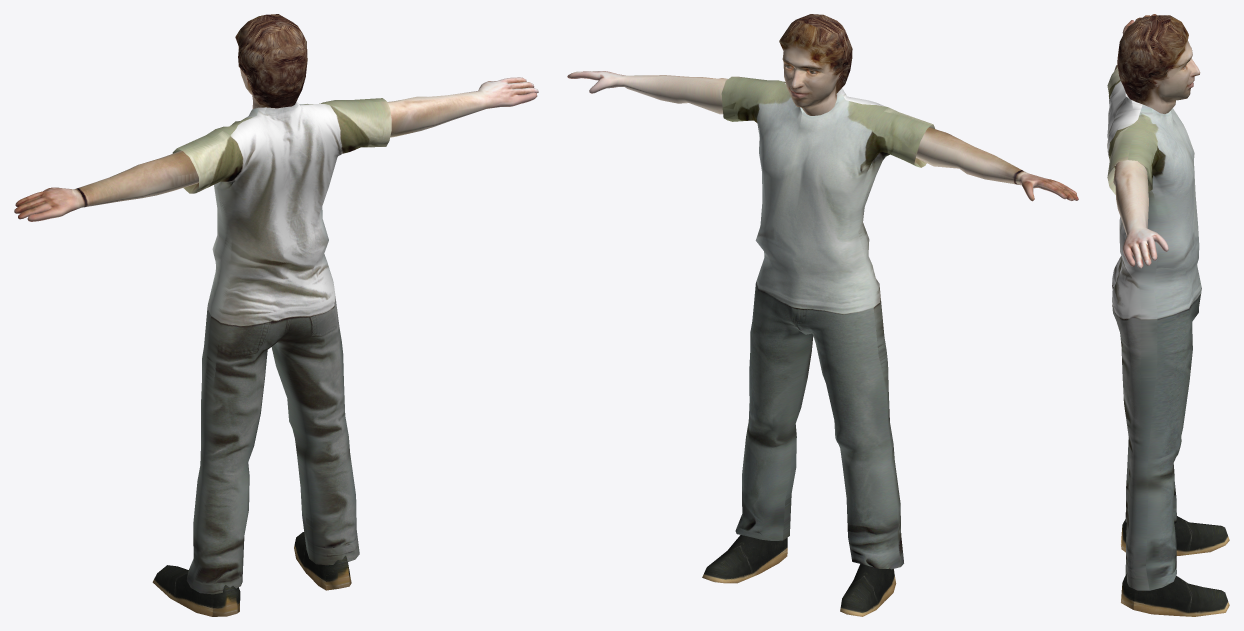
Rendered from CMan0002-Tp.obj.
3 views of the same model, side by side, from view 1: azimuth 30°, elevation 25°; view 2: azimuth 150°, elevation 25°; view 3: azimuth 270°, elevation 25° (orthographic). The views are drawn at different scales.
Visible parts, largest first — view 1: cman0002_tp_Mesh; view 2: cman0002_tp_Mesh; view 3: cman0002_tp_Mesh.
Boxes of the visible parts, x1,y1,x2,y2 form: cman0002_tp_Mesh: [14, 14, 538, 616]; cman0002_tp_Mesh: [567, 14, 1078, 616]; cman0002_tp_Mesh: [1107, 14, 1229, 616].
Bounding box in the file's own units: 1.69 × 1.78 × 0.3529.
Materials: 1 (1 with a texture image).
